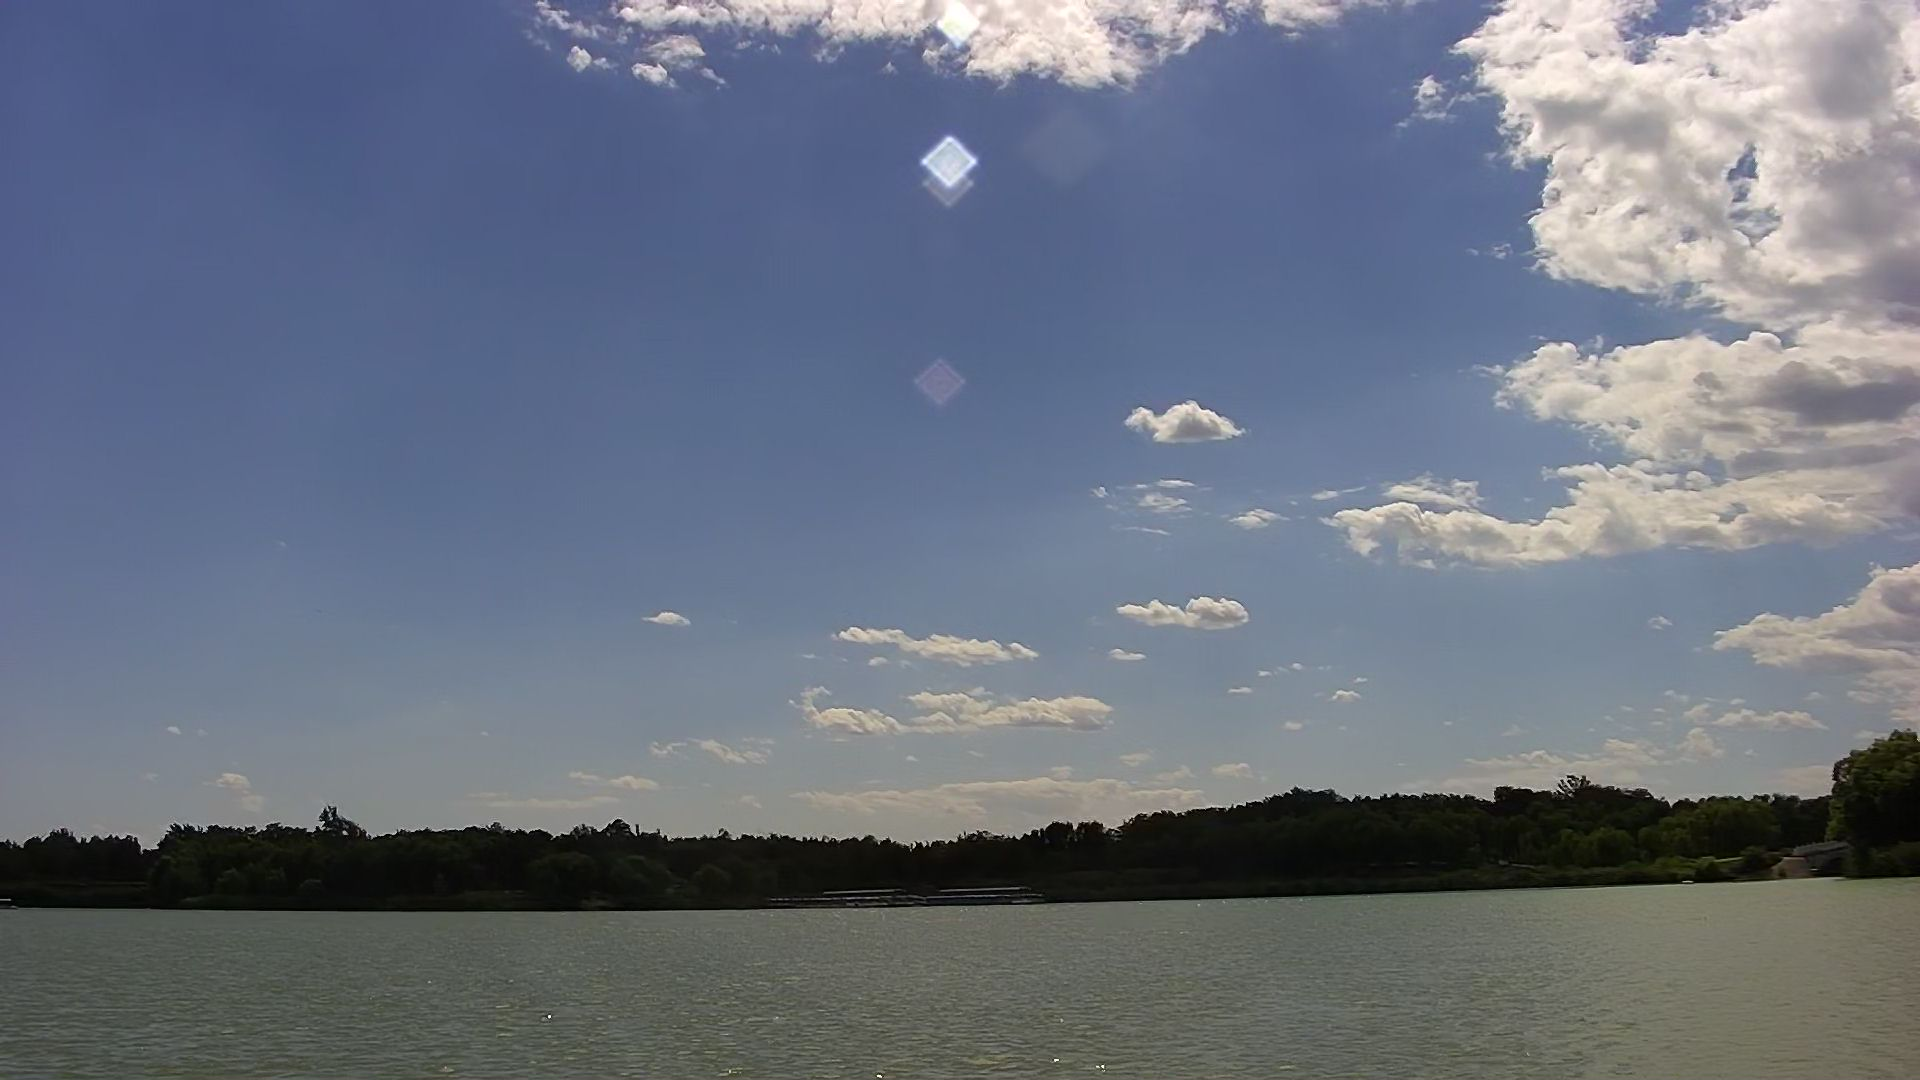harbor: (814, 887, 1039, 901)
